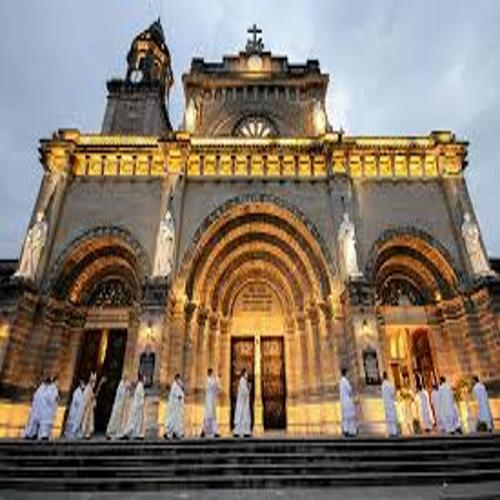Manila Cathedral Church: (20, 14, 484, 433)
